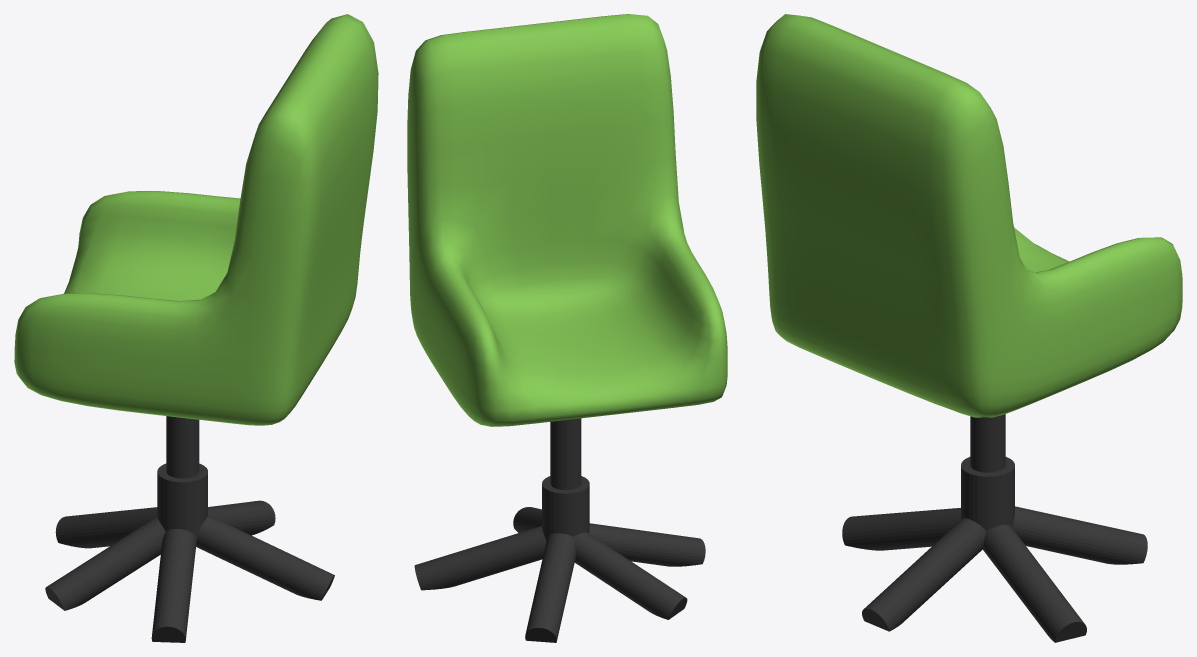
The model's file is Chair.gltf.
3 views of the same model, side by side, from view 1: azimuth 30°, elevation 25°; view 2: azimuth 150°, elevation 25°; view 3: azimuth 270°, elevation 25° (orthographic). The views are drawn at different scales.
Visible parts, largest first — view 1: Cube.034, Chair.001; view 2: Cube.034, Chair.001; view 3: Cube.034, Chair.001.
Part boxes in pixels (<box>): Cube.034: <box>14,14,378,425</box>; Chair.001: <box>45,416,334,642</box>; Cube.034: <box>407,14,727,426</box>; Chair.001: <box>414,418,705,642</box>; Cube.034: <box>756,14,1182,417</box>; Chair.001: <box>842,414,1147,642</box>.
Size of the model in its own units: 1.83 by 2.71 by 1.83.
